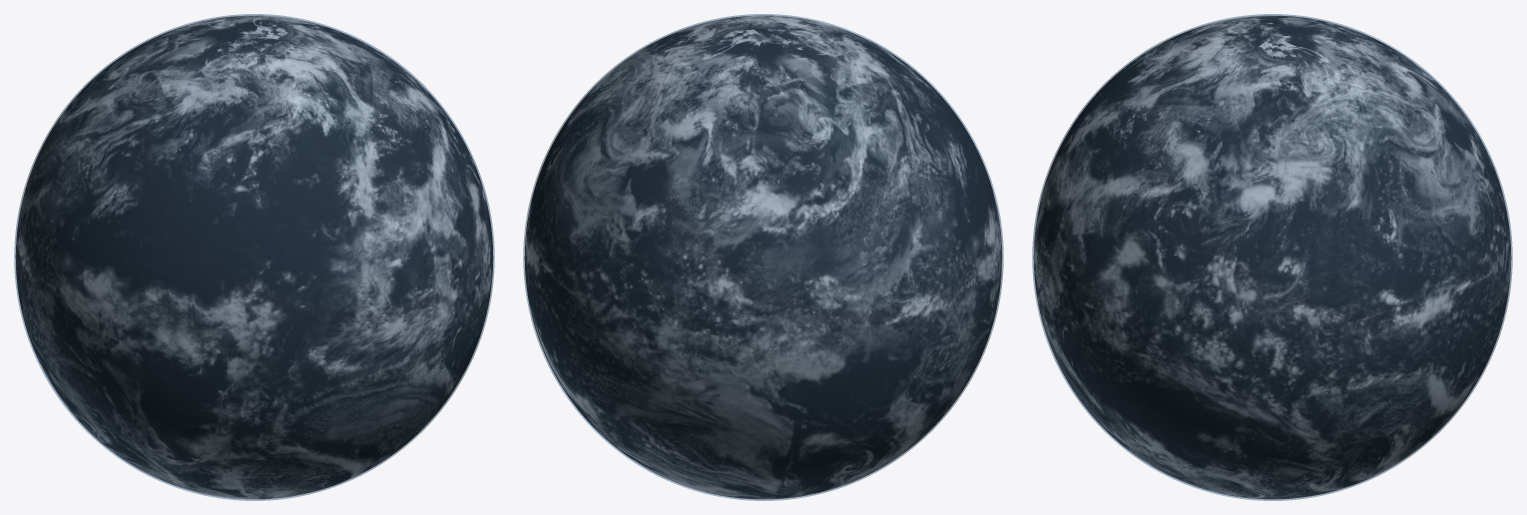
The model's file is Earth.fbx.
The picture shows the model from 3 angles, left to right: view 1: azimuth 30°, elevation 25°; view 2: azimuth 150°, elevation 25°; view 3: azimuth 270°, elevation 25°; orthographic projection.
Visible parts, largest first — view 1: pSphere5, pSphere4; view 2: pSphere5, pSphere4; view 3: pSphere5, pSphere4.
Boxes of the visible parts, x1,y1,x2,y2 form: pSphere5: [14, 14, 494, 500]; pSphere4: [15, 15, 493, 499]; pSphere5: [523, 14, 1003, 500]; pSphere4: [524, 15, 1002, 499]; pSphere5: [1032, 14, 1512, 500]; pSphere4: [1033, 15, 1511, 499].
Size of the model in its own units: 192 by 196 by 192.
3 materials, 2 textured.
